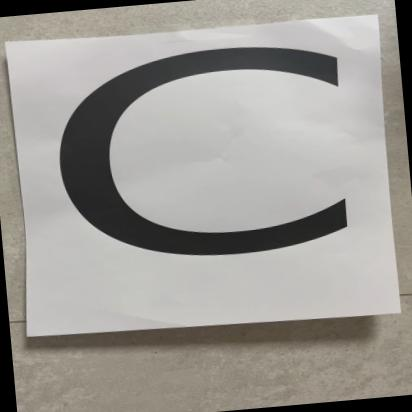seat: (6, 12, 404, 353)
